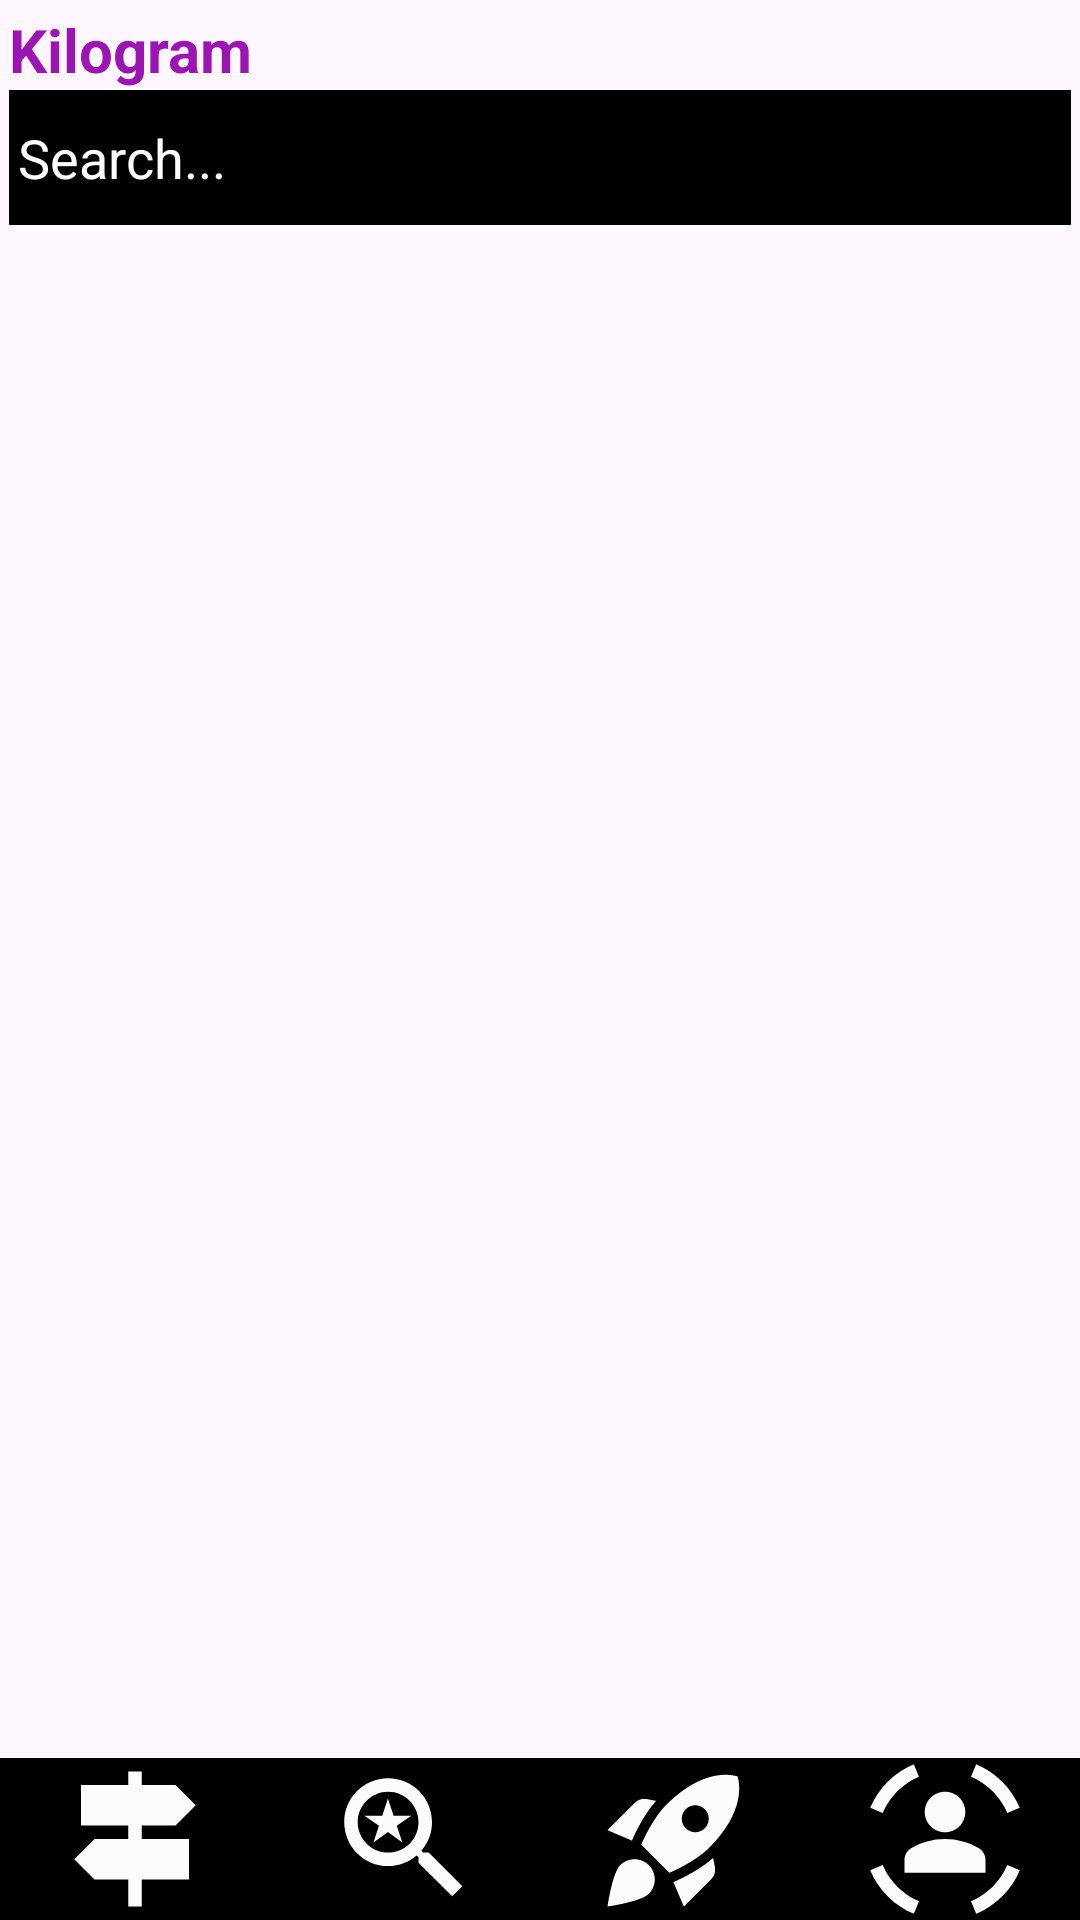

Icon click points for this 1080*1920 phone screenshot, format point (x, y):
profileactivity: point (945, 1839)
searchactivity: point (403, 1837)
